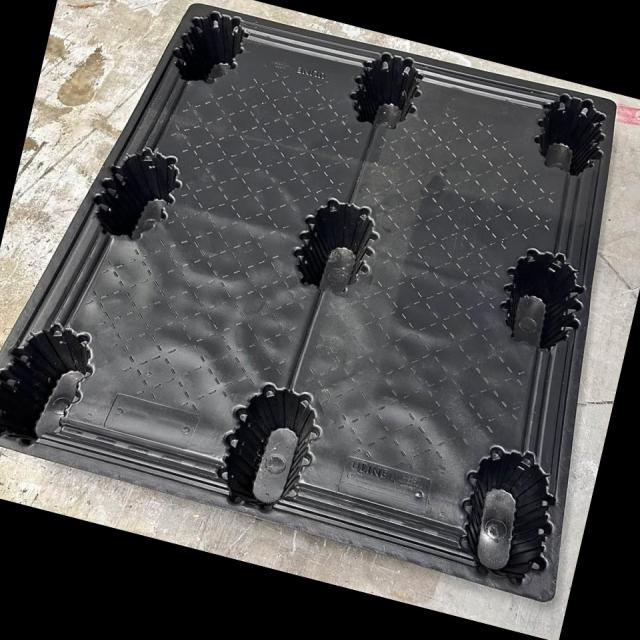non-igps: (0, 0, 627, 610)
